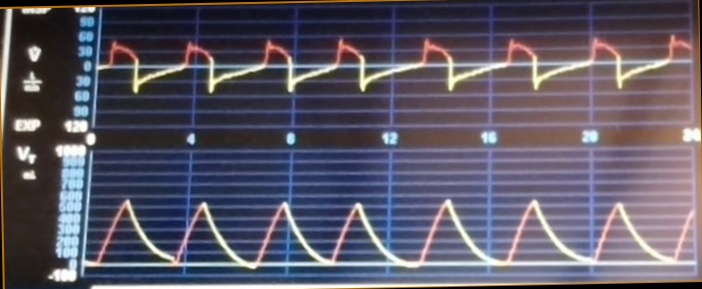Normal Flow: (101, 14, 691, 115)
Normal Volume: (90, 177, 695, 274)
